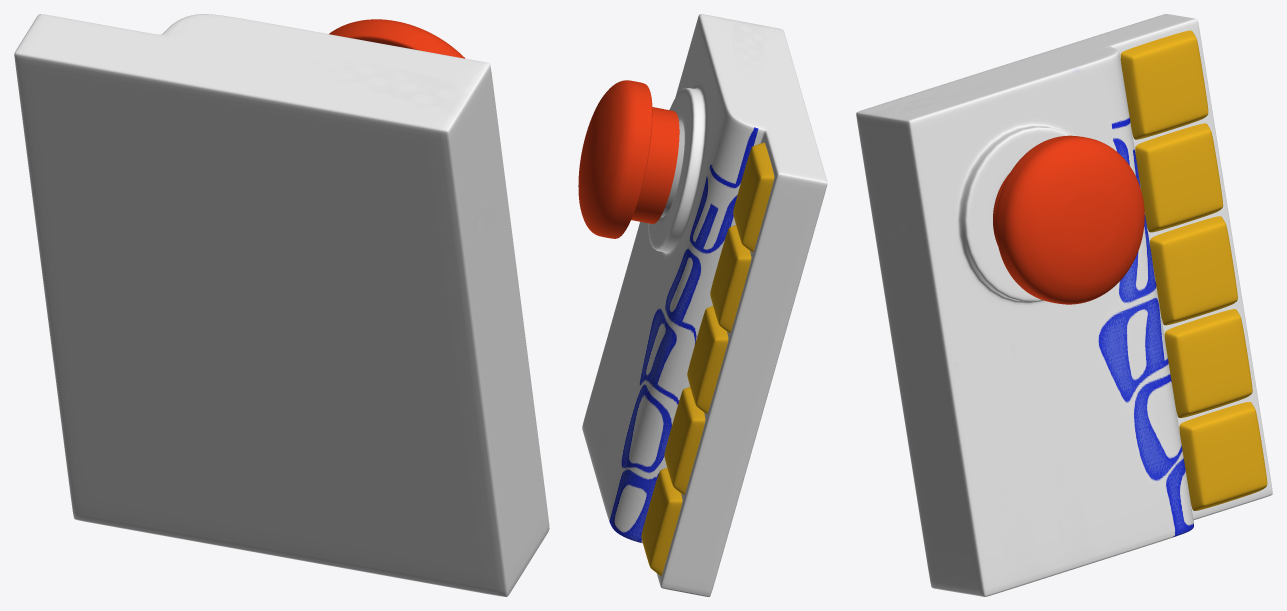
Rendered from remote_static.glb.
3 renders of one model, left to right at view 1: azimuth 30°, elevation 25°; view 2: azimuth 150°, elevation 25°; view 3: azimuth 270°, elevation 25°, orthographic. The views are drawn at different scales.
Visible parts, largest first — view 1: Red pannic button; view 2: Red pannic button; view 3: Red pannic button.
Part boxes in pixels (<box>): Red pannic button: <box>14,14,549,596</box>; Red pannic button: <box>578,14,827,596</box>; Red pannic button: <box>856,14,1272,596</box>.
Bounding box in the file's own units: 0.0937 × 0.1164 × 0.0966.
Materials: 4 (1 with a texture image).
